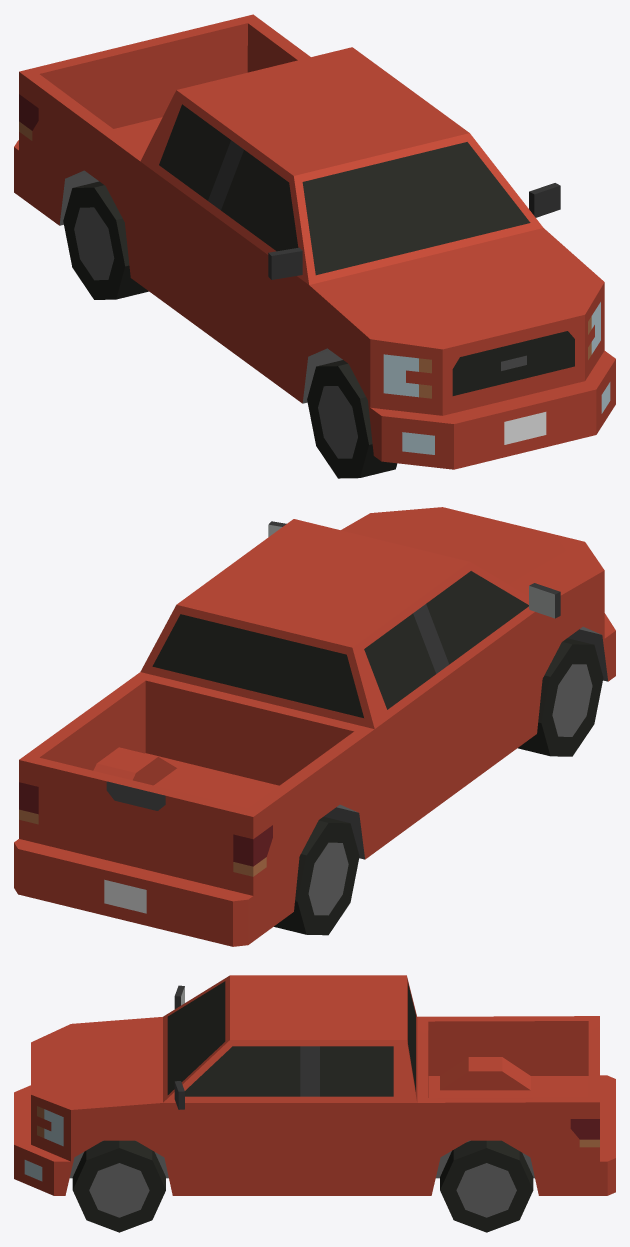
File: Veh_Pickup_03_Red.glb
3 views of the same model, one above another, from view 1: azimuth 30°, elevation 25°; view 2: azimuth 150°, elevation 25°; view 3: azimuth 270°, elevation 25° (orthographic). The views are drawn at different scales.
Visible parts, largest first — view 1: Pickup_03_Red, Wheel_FR, Wheel_RR; view 2: Pickup_03_Red, Wheel_FR, Wheel_RR; view 3: Pickup_03_Red, Wheel_FL, Wheel_RL.
Part boxes in pixels (box(x1,y1,x2,y2)): Pickup_03_Red: box(14, 14, 615, 469); Wheel_FR: box(307, 360, 397, 478); Wheel_RR: box(63, 181, 148, 299); Pickup_03_Red: box(14, 507, 615, 946); Wheel_FR: box(518, 638, 603, 756); Wheel_RR: box(274, 816, 359, 935); Pickup_03_Red: box(14, 975, 615, 1195); Wheel_FL: box(72, 1140, 165, 1232); Wheel_RL: box(440, 1140, 533, 1232).
Size of the model in its own units: 1.37 by 1.1 by 3.29.
1 material, 1 textured.
